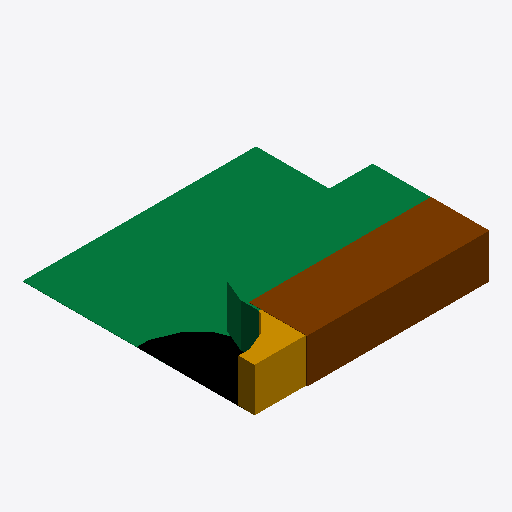
A Minecraft block model of 19 cuboids, rendered isometrically (azimuth 45°, elevation 35.3°) with the resource pack's own textures.
Visible parts, largest first — element 19, element 13, element 7, element 14, element 11, element 3, element 5, element 8, element 12, element 9, element 1, element 4 (+1 smaller).
Part boxes in pixels (x1,y1,x2,y2): element 19: (23, 147, 328, 365); element 13: (249, 197, 488, 385); element 7: (245, 164, 429, 270); element 14: (238, 326, 305, 414); element 11: (227, 276, 274, 349); element 3: (181, 332, 214, 367); element 5: (189, 347, 243, 408); element 8: (245, 249, 301, 286); element 12: (241, 284, 270, 351); element 9: (227, 240, 274, 265); element 1: (138, 340, 206, 380); element 4: (204, 333, 239, 372).
Bounding box in the file's own units: 16 × 3.02 × 16.